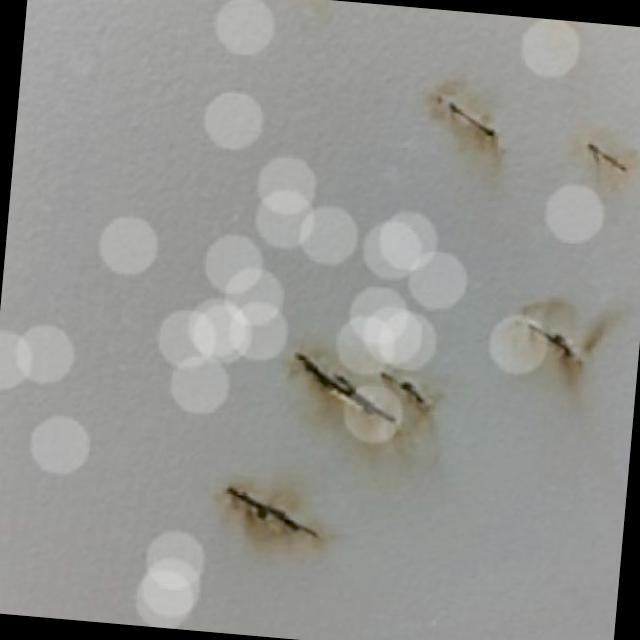crack: (298, 352, 404, 424), (224, 487, 324, 537), (520, 319, 586, 357), (442, 98, 504, 134), (387, 371, 432, 406), (588, 140, 628, 165)
